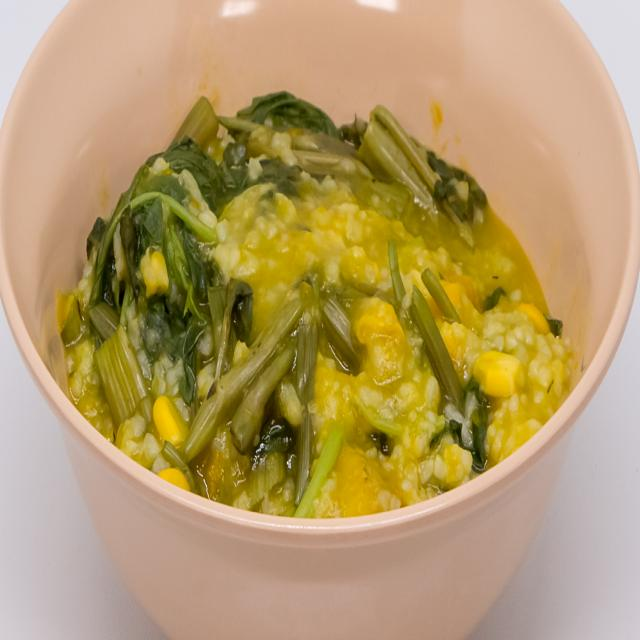Bubur-Manado: (49, 59, 583, 570)
